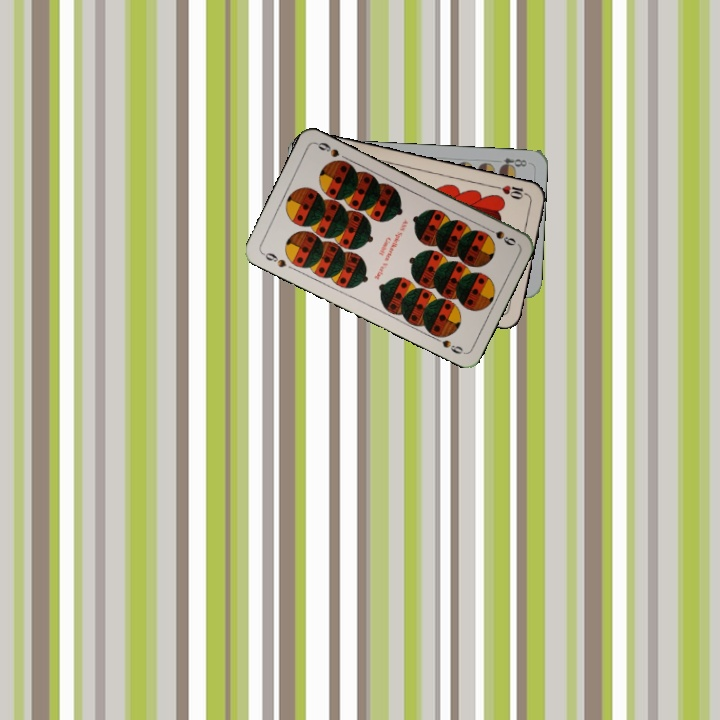E8: (491, 154, 530, 171)
H10: (491, 181, 531, 202)
S9: (481, 223, 518, 248), (258, 248, 289, 270)
